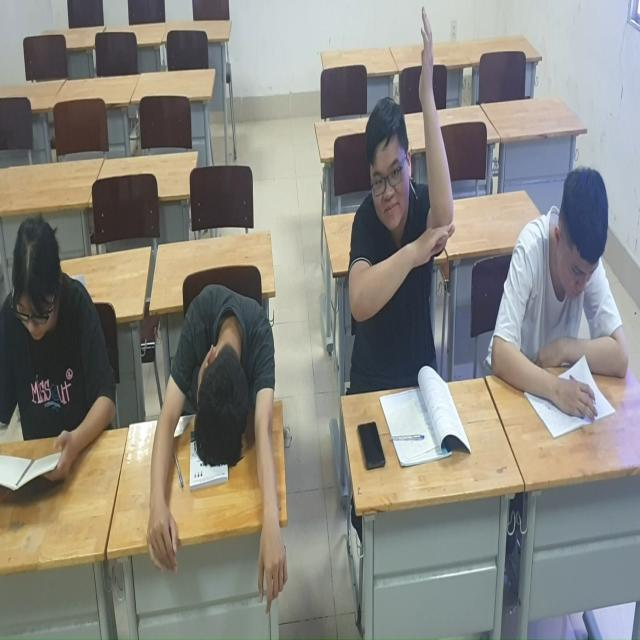raise_hand: (345, 4, 472, 456)
read: (498, 156, 635, 440), (1, 204, 118, 504)
sleep: (142, 280, 294, 611)
